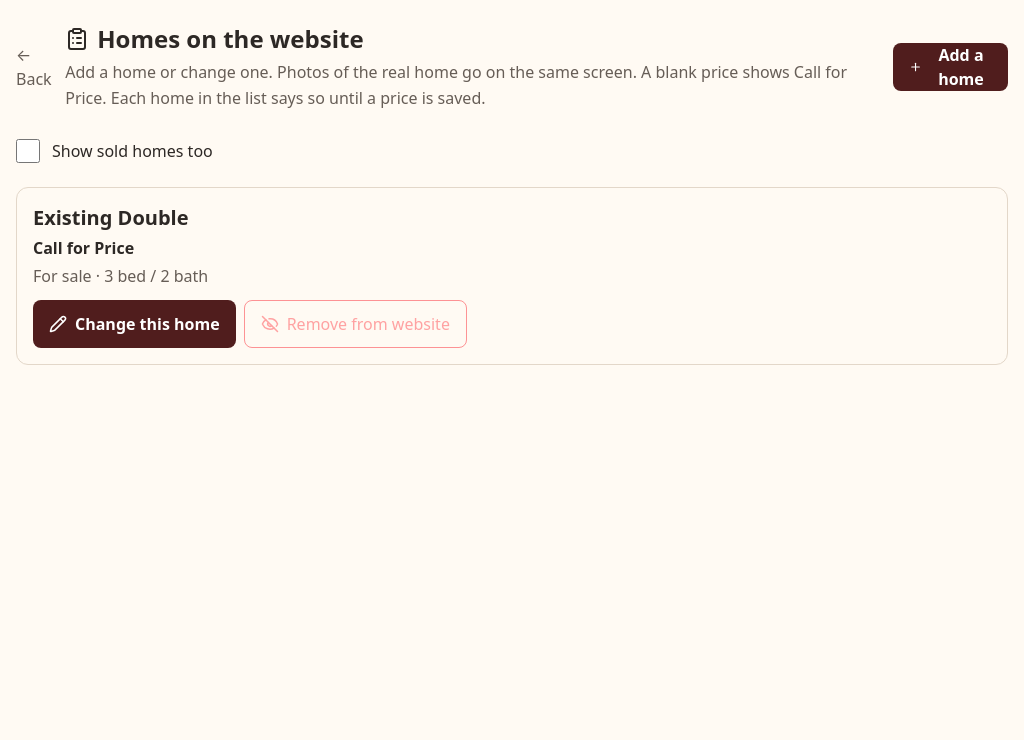
Scenario: rejects fractions smaller than a cent instead of silently rounding the advertised price
This screenshot has width=1024, height=740.
Click the button "Change this home" at coordinates (134, 324), box [33,300,236,348]
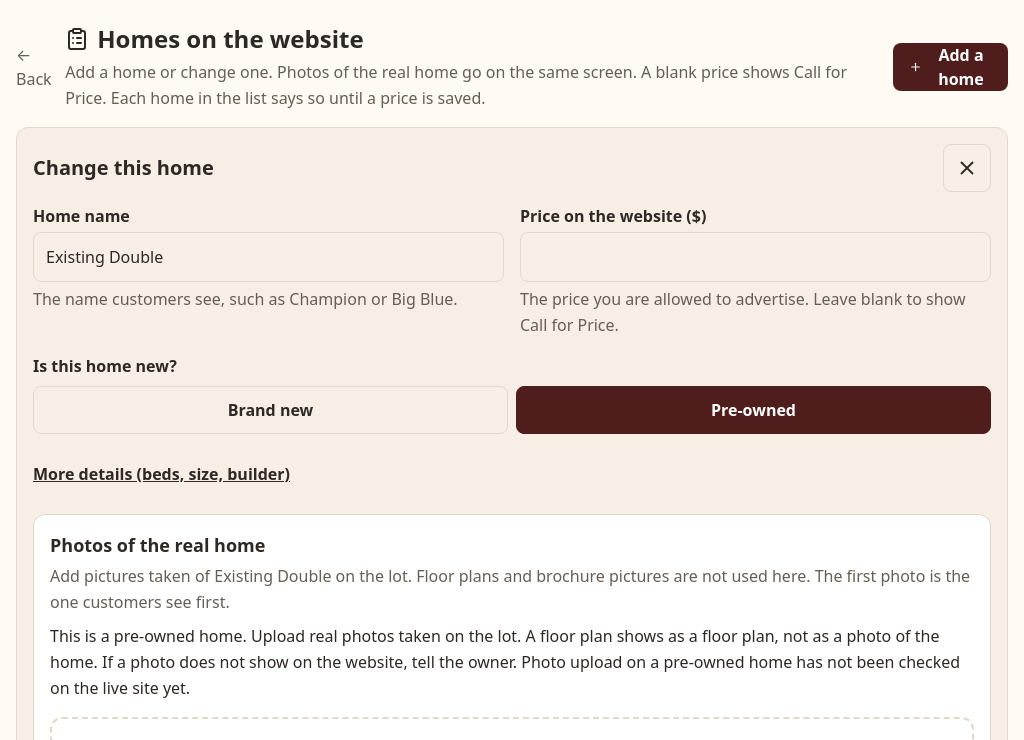
Type "123.456" into the number field labelled "Price on the website ($)" at coordinates (756, 257), box [520,232,991,282]
(page scrolled)
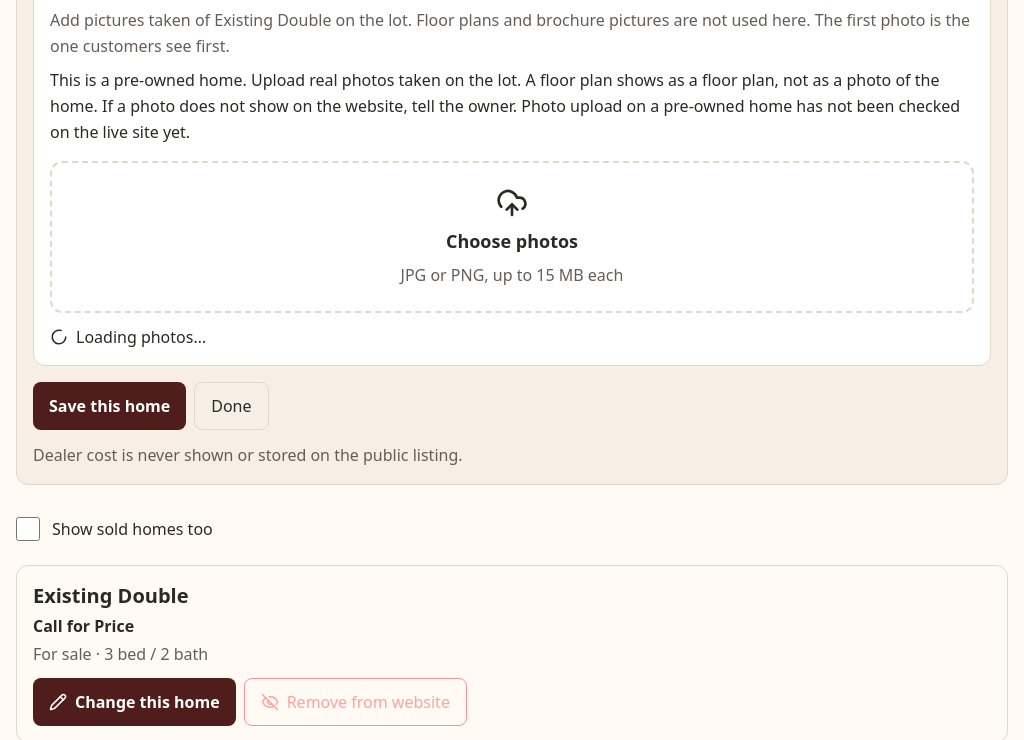
Click the button "Save this home" at coordinates (110, 406), box [33,382,186,430]
(page scrolled)
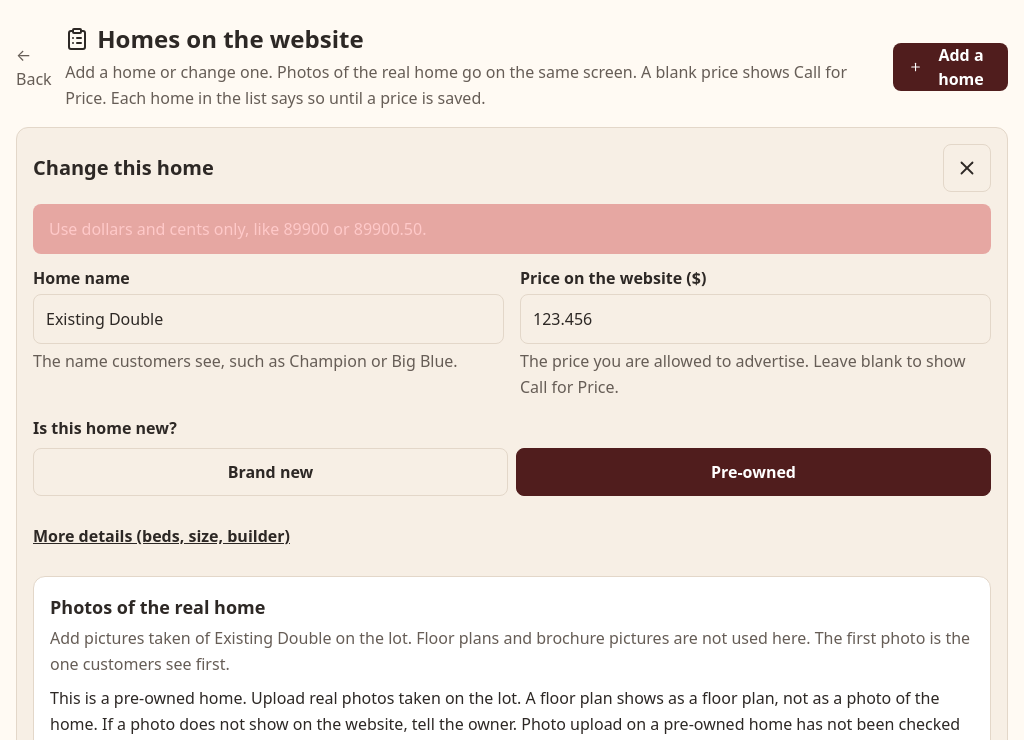
Expected: the text "Use dollars and cents only, like 89900 or 89900.50." is shown, [33,204,991,254]
